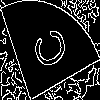C: (25, 25, 69, 76)
